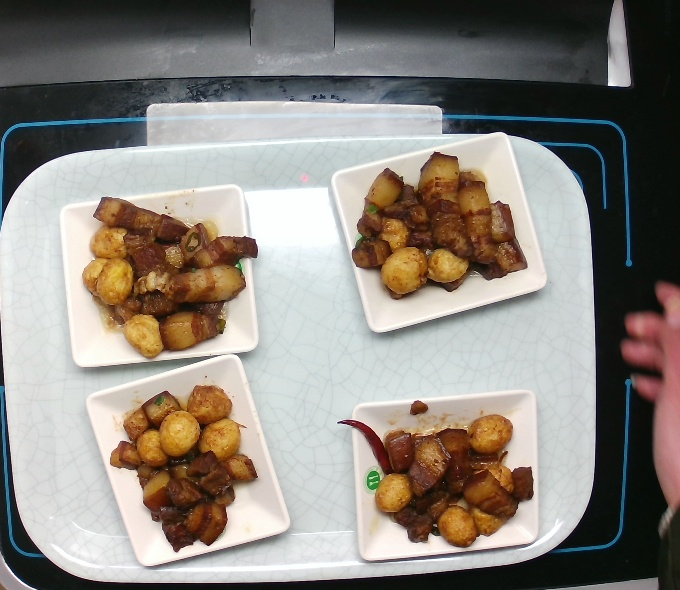wcq-HongShaoRouChaoAnChunDan: (328, 388, 539, 556), (68, 193, 265, 365), (342, 137, 539, 309), (105, 375, 264, 558)
